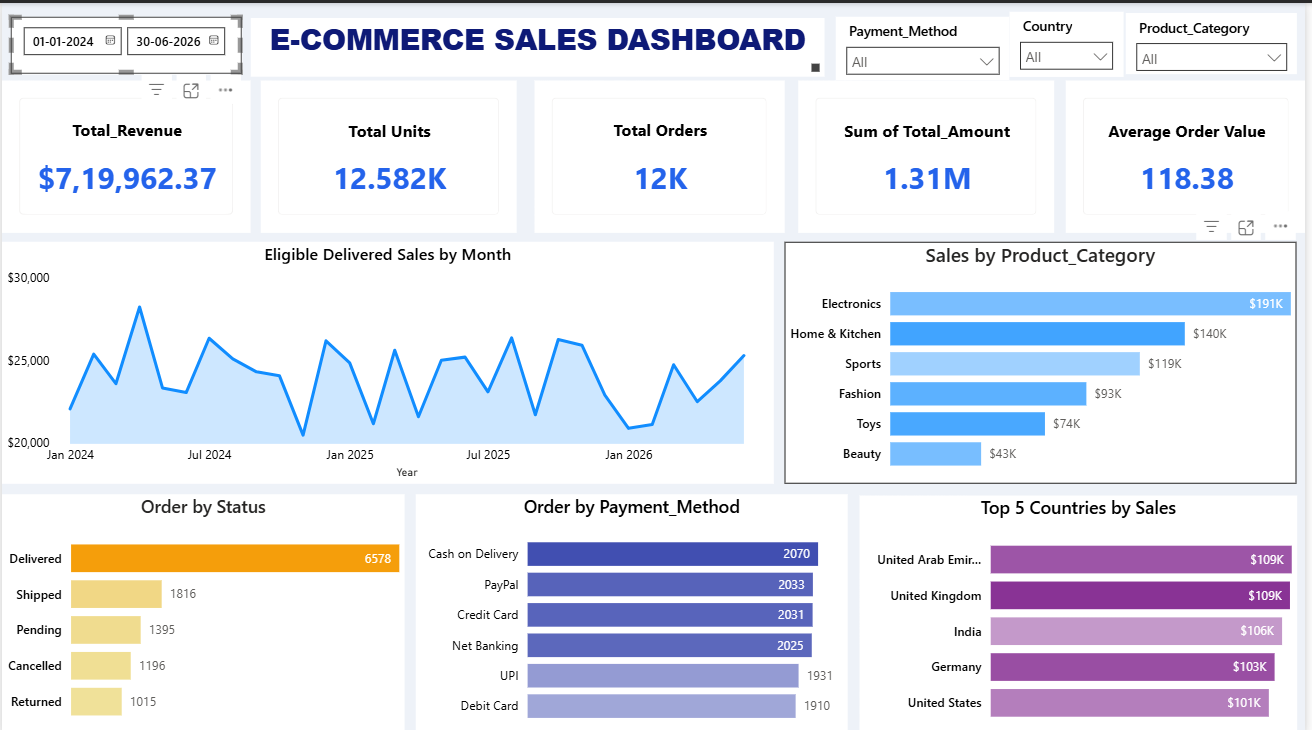

This screenshot's page, from the dashboard's own definition file:
{"tool":"powerbi","page":{"name":"Page 1","canvas":[1280,720],"ordinal":0},"visuals":[{"type":"cardVisual","fields":{"Data":["ecommerce_cleaned.Total_Revenue"]},"box":[0,75.5,244.3,149.6],"z":0},{"type":"cardVisual","fields":{"Data":["ecommerce_cleaned.Total Orders"]},"box":[522.8,75.5,245.6,149.6],"z":1000},{"type":"cardVisual","fields":{"Data":["ecommerce_cleaned.Total Units"]},"box":[253.9,75.5,251.1,149.6],"z":2000},{"type":"cardVisual","fields":{"Data":["Sum(ecommerce_cleaned.Total_Amount)"]},"box":[782.2,75.5,251.1,149.6],"z":3000},{"type":"cardVisual","fields":{"Data":["ecommerce_cleaned.Average Order Value"]},"box":[1044.3,75.5,236,149.6],"z":4000},{"type":"clusteredBarChart","title":"Sales by Product_Category","fields":{"Category":["ecommerce_cleaned.Product_Category"],"Y":["ecommerce_cleaned.Total_Revenue"]},"box":[768.4,234.6,502.2,237.4],"z":5000},{"type":"lineChart","title":"Eligible Delivered Sales by Month","fields":{"Category":["ecommerce_cleaned.Order_Date.Variation.Date Hierarchy.Year","ecommerce_cleaned.Order_Date.Variation.Date Hierarchy.Month"],"Y":["ecommerce_cleaned.Total_Revenue"]},"box":[0,234.6,757.5,237.4],"z":6000},{"type":"clusteredBarChart","title":"Order by Status","fields":{"Category":["ecommerce_cleaned.Order_Status"],"Y":["ecommerce_cleaned.Total Orders"]},"box":[0,481.6,395.2,237.4],"z":7000},{"type":"clusteredBarChart","title":"Order by Payment_Method","fields":{"Category":["ecommerce_cleaned.Payment_Method"],"Y":["ecommerce_cleaned.Total Orders"]},"box":[406.2,481.6,424,237.4],"z":8000},{"type":"clusteredBarChart","title":"Top 5 Countries by Sales","fields":{"Category":["ecommerce_cleaned.Country"],"Y":["ecommerce_cleaned.Total_Revenue"]},"box":[841.2,483,429.5,237.4],"z":9000},{"type":"slicer","fields":{"Values":["ecommerce_cleaned.Product_Category"]},"box":[1103.1,9.8,168.1,60.1],"z":10000},{"type":"slicer","fields":{"Values":["ecommerce_cleaned.Payment_Method"]},"box":[818.4,13.5,170.6,62.6],"z":11000},{"type":"slicer","fields":{"Values":["ecommerce_cleaned.Country"]},"box":[989,8.6,111.7,63.8],"z":12000},{"type":"slicer","fields":{"Values":["ecommerce_cleaned.Order_Date"]},"box":[8.6,13.5,227,56.4],"z":13000},{"type":"textbox","title":"E-COMMERCE SALES DASHBOARD","box":[244.2,14.7,563.2,57.7],"z":14000}]}

Visuals, with their boxes in screenshot pixels (x1, y1, x2, y2), scaled from the page's 1280x720 canvas onto the 1312x730 screenshot:
cardVisual - ecommerce_cleaned.Total_Revenue: detection(0, 77, 250, 228)
cardVisual - ecommerce_cleaned.Total Orders: detection(536, 77, 788, 228)
cardVisual - ecommerce_cleaned.Total Units: detection(260, 77, 518, 228)
cardVisual - Sum(ecommerce_cleaned.Total_Amount): detection(802, 77, 1059, 228)
cardVisual - ecommerce_cleaned.Average Order Value: detection(1070, 77, 1311, 228)
"Sales by Product_Category" clusteredBarChart: detection(788, 238, 1302, 479)
"Eligible Delivered Sales by Month" lineChart: detection(0, 238, 776, 479)
"Order by Status" clusteredBarChart: detection(0, 488, 405, 729)
"Order by Payment_Method" clusteredBarChart: detection(416, 488, 851, 729)
"Top 5 Countries by Sales" clusteredBarChart: detection(862, 490, 1302, 729)
slicer - ecommerce_cleaned.Product_Category: detection(1131, 10, 1303, 71)
slicer - ecommerce_cleaned.Payment_Method: detection(839, 14, 1014, 77)
slicer - ecommerce_cleaned.Country: detection(1014, 9, 1128, 73)
slicer - ecommerce_cleaned.Order_Date: detection(9, 14, 241, 71)
"E-COMMERCE SALES DASHBOARD" textbox: detection(250, 15, 828, 73)
